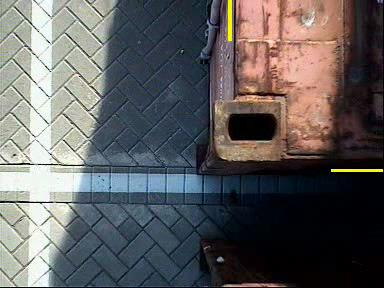groundmarker_2: (115, 63, 191, 108)
